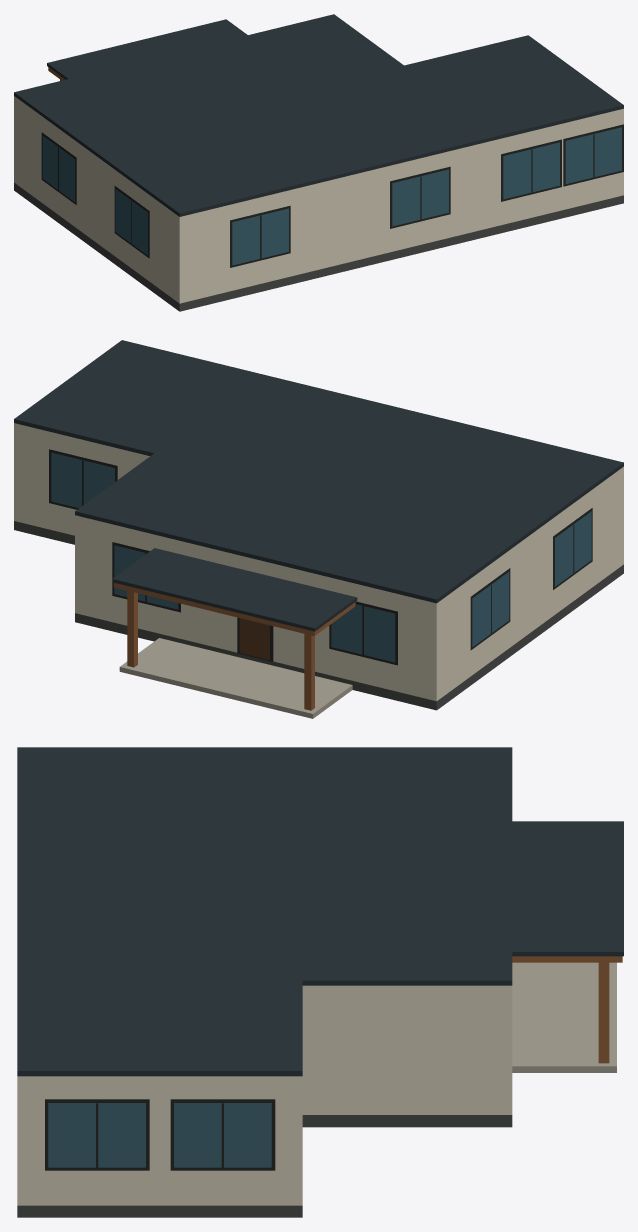
3 views of the same model, one above another, from view 1: azimuth 30°, elevation 25°; view 2: azimuth 150°, elevation 25°; view 3: azimuth 270°, elevation 25° (orthographic). The views are drawn at different scales.
Bounding box in the file's own units: 16.24 × 3.4 × 12.82.
